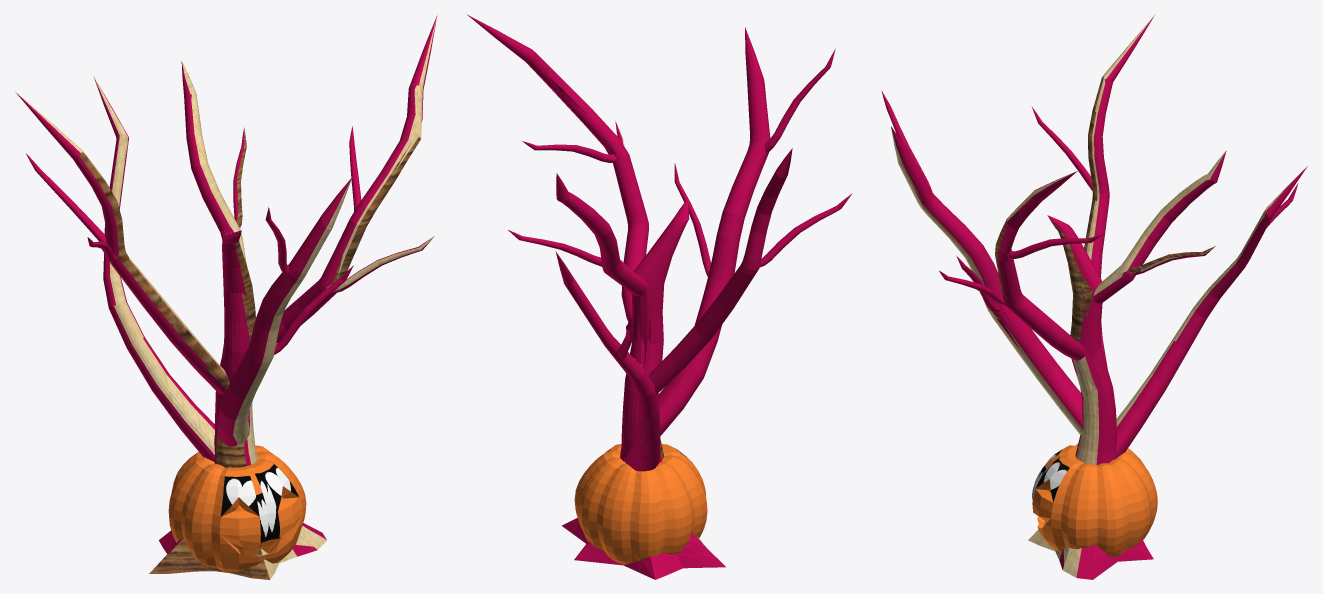
The model's file is bundeva_i_drvo.glb.
The picture shows the model from 3 angles, left to right: view 1: azimuth 30°, elevation 25°; view 2: azimuth 150°, elevation 25°; view 3: azimuth 270°, elevation 25°; orthographic projection. The views are drawn at different scales.
Size of the model in its own units: 0.0943 by 0.118 by 0.0999.
5 materials, 3 textured.
